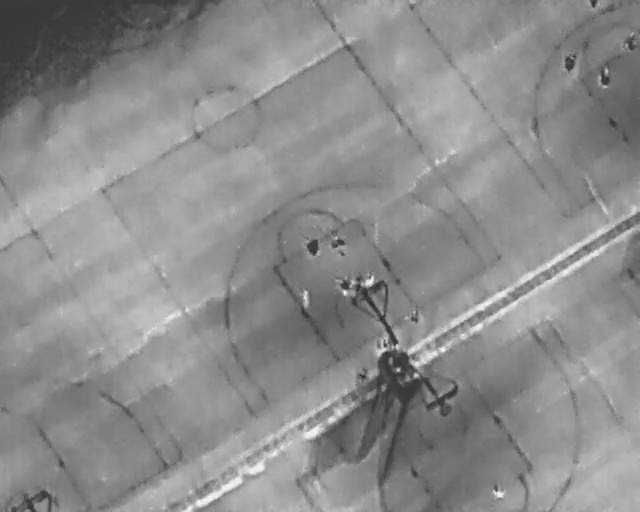Person: (561, 49, 578, 74), (621, 29, 638, 54), (598, 62, 612, 88), (490, 482, 507, 501), (329, 229, 345, 249), (305, 236, 320, 257), (300, 288, 311, 311), (338, 278, 352, 296), (356, 367, 370, 384), (378, 335, 391, 352), (363, 271, 375, 288), (408, 308, 420, 324)
